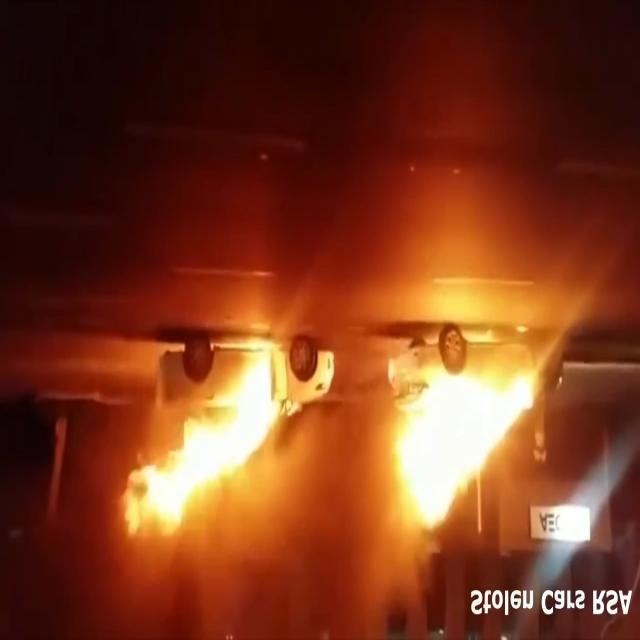fire: (124, 334, 290, 541), (397, 326, 537, 524)
